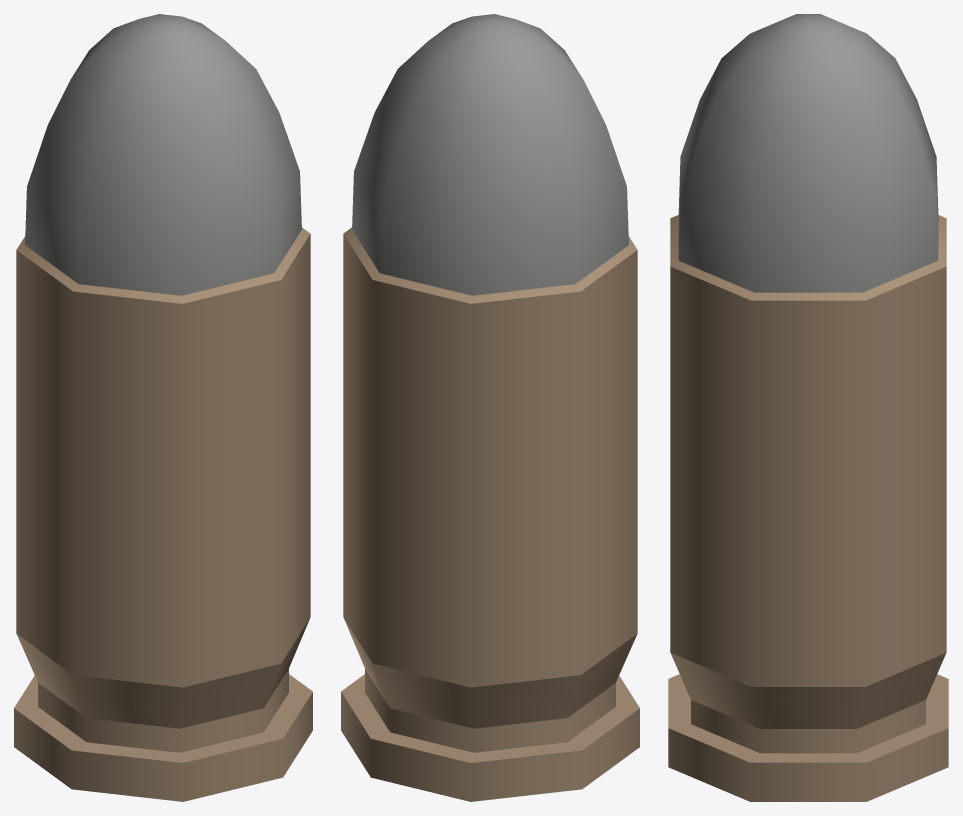
Rendered from SM_Bullet_06.fbx.
3 views of the same model, side by side, from view 1: azimuth 30°, elevation 25°; view 2: azimuth 150°, elevation 25°; view 3: azimuth 270°, elevation 25° (orthographic).
Parts seen in each view (by area): view 1: SM_Bullet_06; view 2: SM_Bullet_06; view 3: SM_Bullet_06.
Boxes of the visible parts, x1,y1,x2,y2 form: SM_Bullet_06: [14, 14, 312, 801]; SM_Bullet_06: [341, 14, 639, 801]; SM_Bullet_06: [668, 14, 948, 801].
Bounding box in the file's own units: 3.44 × 9.76 × 3.44.
1 material, 1 textured.
